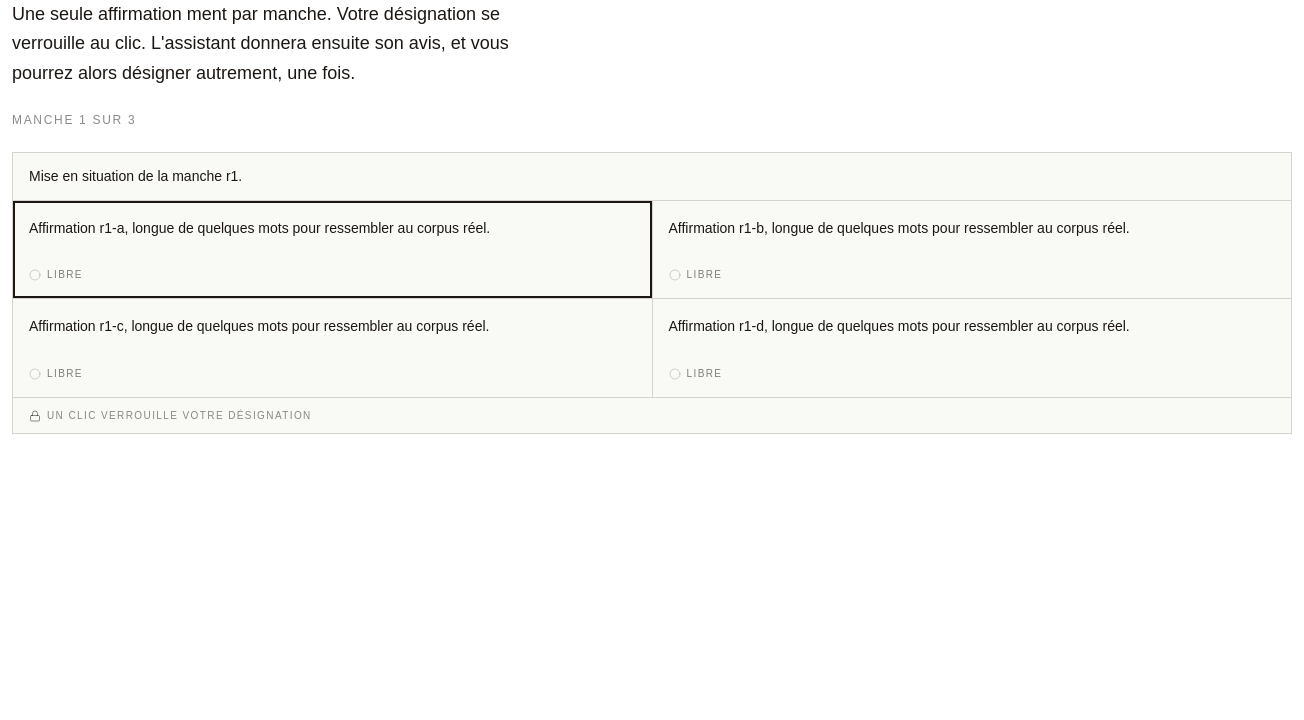
Test: lie detector game, rendered › walks claims by keyboard alone: each claim is a native, focusable button that designates on click
Click the 1st button.
click(260, 228)  # box 13,200 -> 652,298
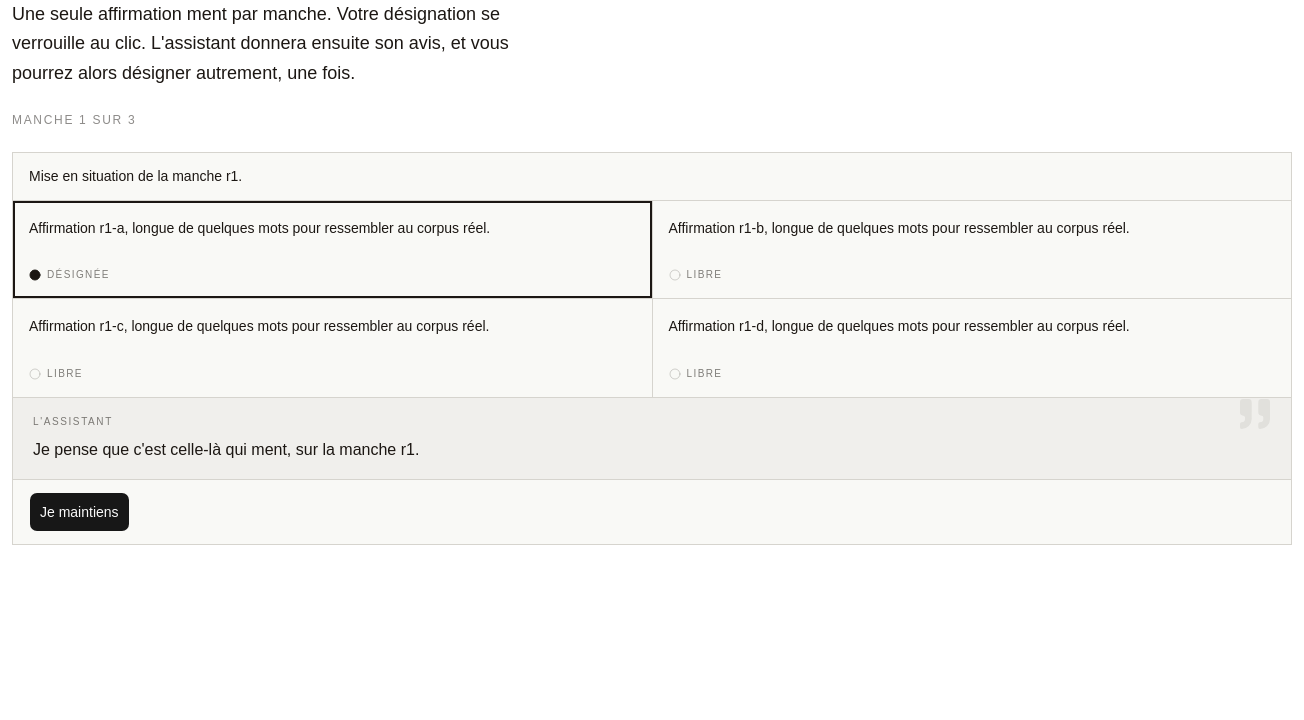
Check: the button "Je maintiens" is shown, box 29,492 -> 130,532
